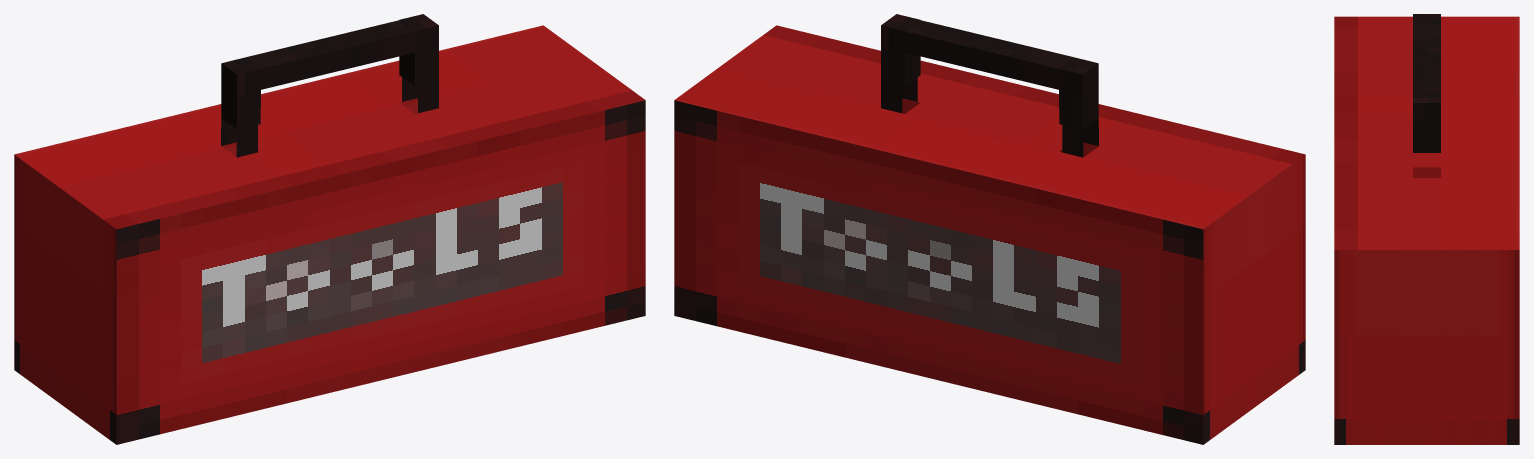
Rendered from BGN_TOOLSBOX.fbx.
The picture shows the model from 3 angles, left to right: view 1: azimuth 30°, elevation 25°; view 2: azimuth 150°, elevation 25°; view 3: azimuth 270°, elevation 25°; orthographic projection. The views are drawn at different scales.
Parts seen in each view (by area): view 1: BGN_TOOLSBOX; view 2: BGN_TOOLSBOX; view 3: BGN_TOOLSBOX.
Part boxes in pixels (x1,y1,x2,y2): BGN_TOOLSBOX: [14, 14, 645, 444]; BGN_TOOLSBOX: [674, 14, 1305, 444]; BGN_TOOLSBOX: [1334, 14, 1519, 444].
Bounding box in the file's own units: 89.75 × 48.39 × 30.07.
